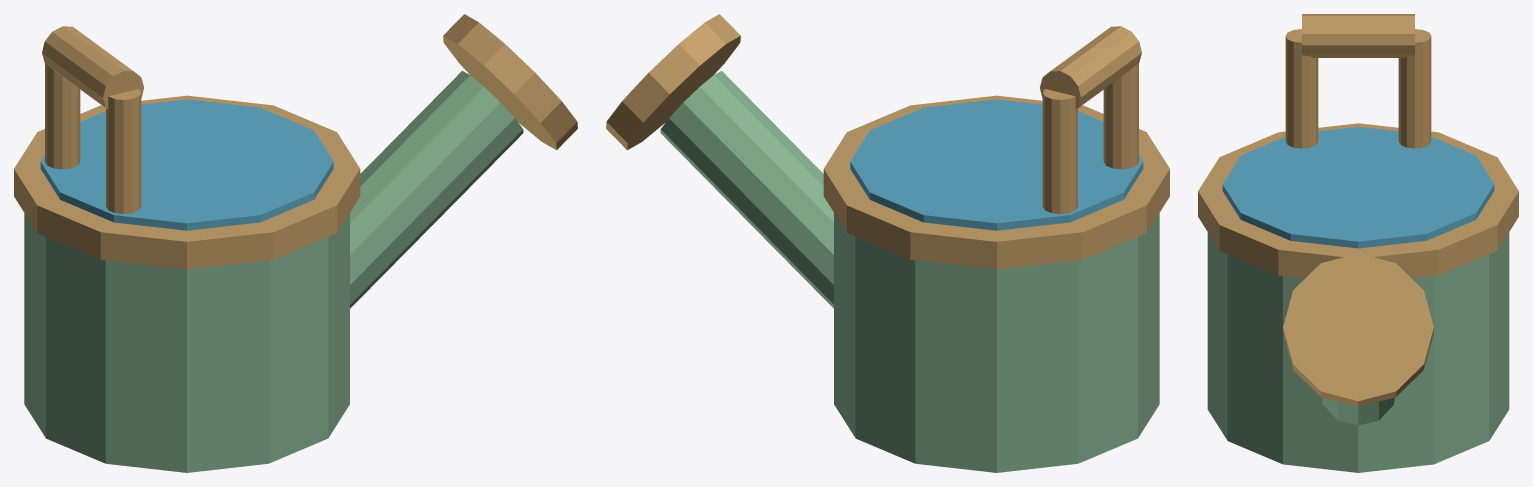
File: WateringCan.glb
3 views of the same model, side by side, from view 1: azimuth 30°, elevation 25°; view 2: azimuth 150°, elevation 25°; view 3: azimuth 270°, elevation 25° (orthographic). The views are drawn at different scales.
Visible parts, largest first — view 1: CanBody, WaterSurface, CanRim, Spout.001, Sprinkler, HandGrip, HandleUpright, HandleUpright.001; view 2: CanBody, WaterSurface, CanRim, Spout.001, Sprinkler, HandGrip, HandleUpright.001, HandleUpright; view 3: CanBody, WaterSurface, Sprinkler, CanRim, HandGrip, HandleUpright, HandleUpright.001, Spout.001.
Boxes of the visible parts, <box> form: CanBody: <box>24,213,349,472</box>; WaterSurface: <box>40,99,333,230</box>; CanRim: <box>14,95,360,269</box>; Spout.001: <box>350,70,523,308</box>; Sprinkler: <box>443,14,577,150</box>; HandGrip: <box>42,26,143,109</box>; HandleUpright: <box>106,89,141,213</box>; HandleUpright.001: <box>45,63,80,169</box>; CanBody: <box>834,213,1159,472</box>; WaterSurface: <box>850,99,1143,230</box>; CanRim: <box>823,95,1169,269</box>; Spout.001: <box>660,70,833,308</box>; Sprinkler: <box>606,14,740,150</box>; HandGrip: <box>1040,26,1141,109</box>; HandleUpright.001: <box>1042,89,1077,213</box>; HandleUpright: <box>1103,63,1138,169</box>; CanBody: <box>1207,232,1509,472</box>; WaterSurface: <box>1222,127,1494,248</box>; Sprinkler: <box>1283,253,1433,406</box>; CanRim: <box>1198,123,1518,278</box>; HandGrip: <box>1302,14,1414,57</box>; HandleUpright: <box>1285,29,1318,148</box>; HandleUpright.001: <box>1398,29,1431,148</box>; Spout.001: <box>1321,397,1395,425</box>.
Bounding box in the file's own units: 0.8946 × 0.615 × 0.51.
